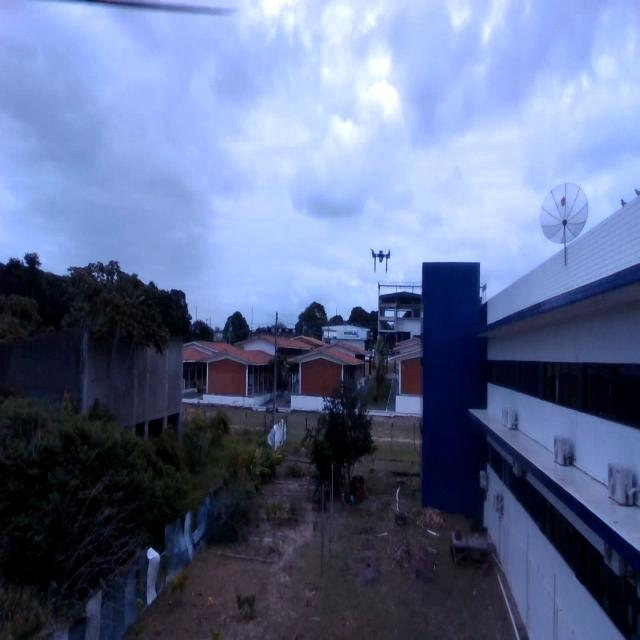-uav-: (368, 234, 396, 279)
